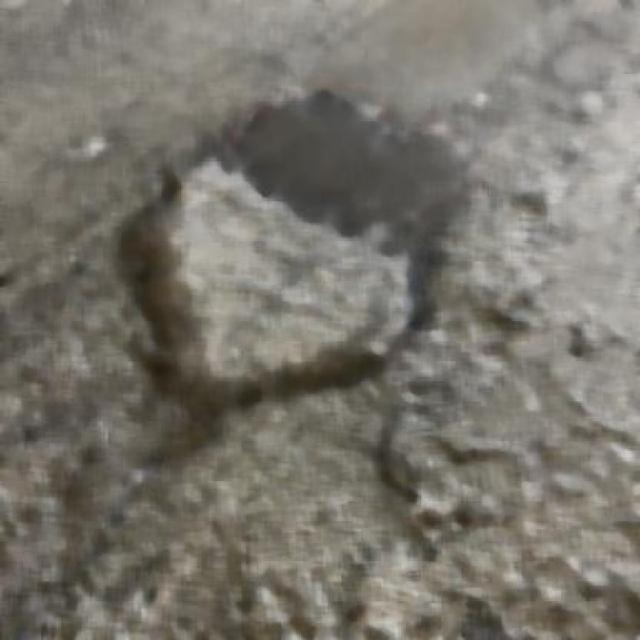Pothole: (118, 82, 442, 416)
